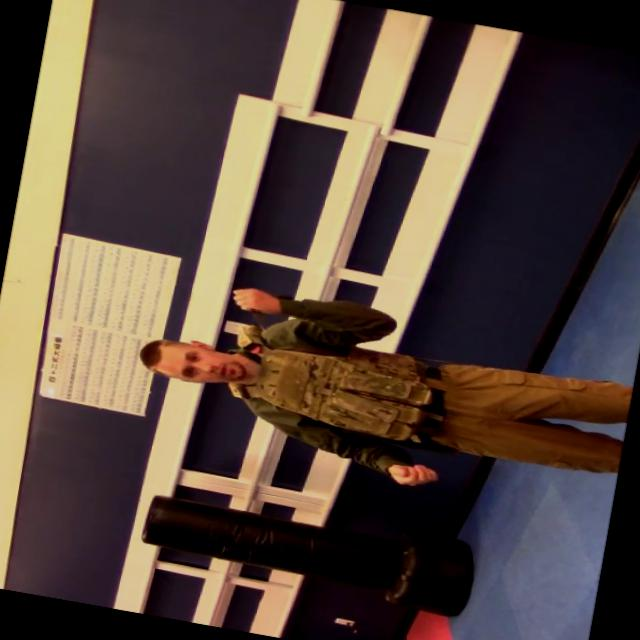knife: (238, 306, 290, 342)
